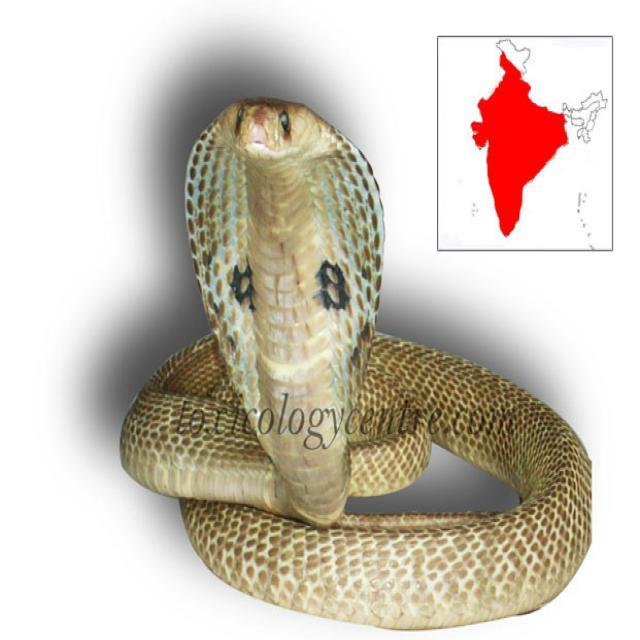Snake: (118, 94, 592, 630)
